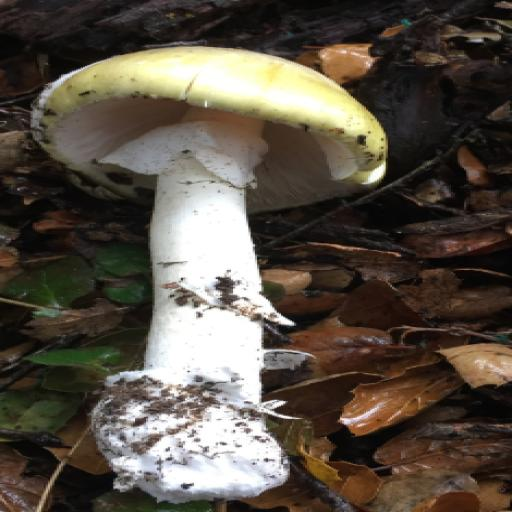Death Cap: (39, 32, 419, 511)
